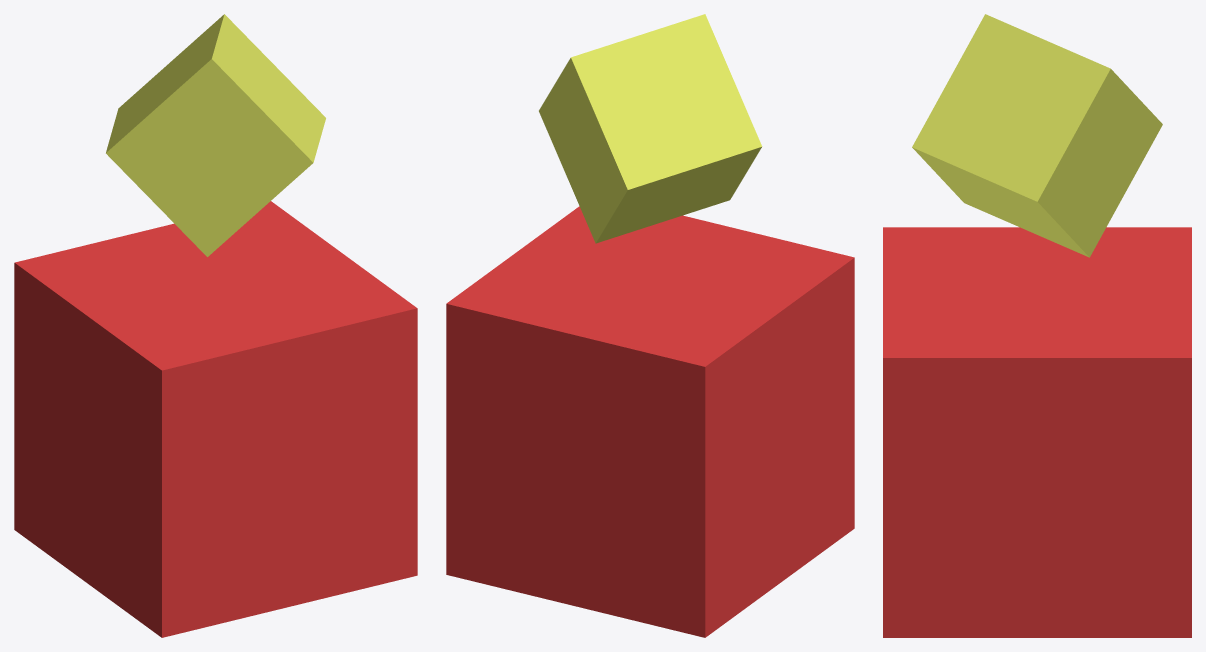
File: TestScene.glb
3 views of the same model, side by side, from view 1: azimuth 30°, elevation 25°; view 2: azimuth 150°, elevation 25°; view 3: azimuth 270°, elevation 25° (orthographic). The views are drawn at different scales.
Parts seen in each view (by area): view 1: Cube.001, Cube; view 2: Cube.001, Cube; view 3: Cube.001, Cube.
Boxes of the visible parts, x1,y1,x2,y2 form: Cube.001: (14,201,417,637); Cube: (106,14,325,256); Cube.001: (446,206,854,637); Cube: (539,14,762,243); Cube.001: (883,227,1191,637); Cube: (912,14,1162,257).
Bounding box in the file's own units: 1 × 1.94 × 1.
